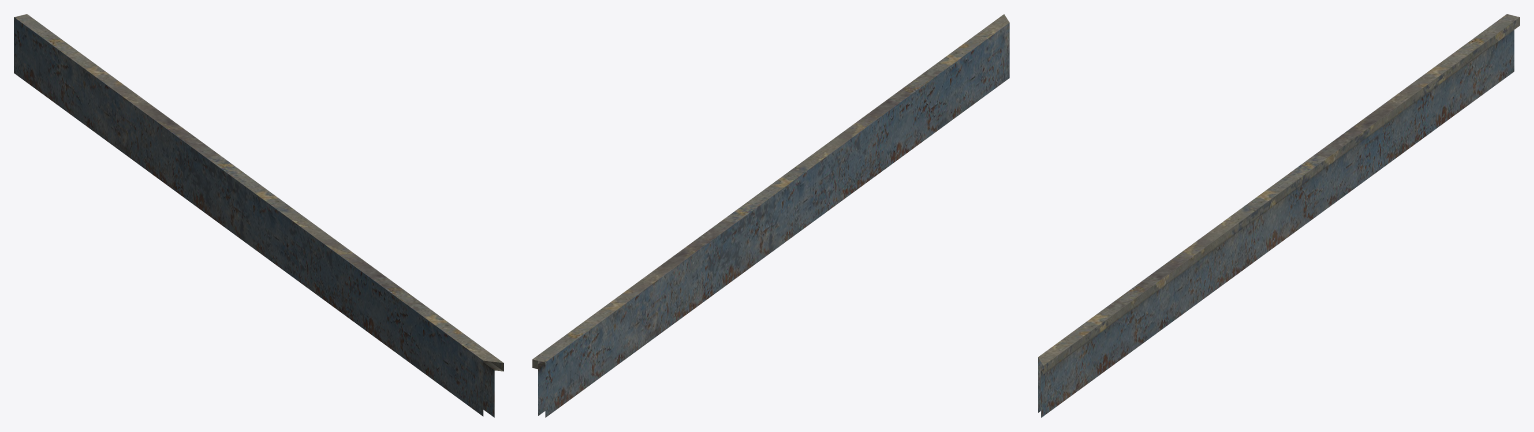
File: Roof_SideWall_03.FBX
The picture shows the model from 3 angles, left to right: view 1: azimuth 30°, elevation 25°; view 2: azimuth 150°, elevation 25°; view 3: azimuth 330°, elevation 25°; orthographic projection.
Parts seen in each view (by area): view 1: Roof_SideWall_03; view 2: Roof_SideWall_03; view 3: Roof_SideWall_03.
Part boxes in pixels (x1,y1,x2,y2): Roof_SideWall_03: (14, 14, 503, 417); Roof_SideWall_03: (532, 14, 1009, 417); Roof_SideWall_03: (1038, 14, 1519, 417).
Size of the model in its own units: 22.66 by 92.93 by 1434.
